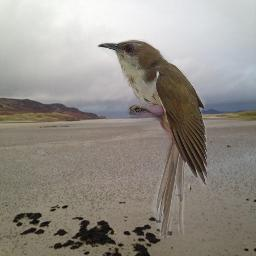Cuckoo: (97, 38, 207, 238)
